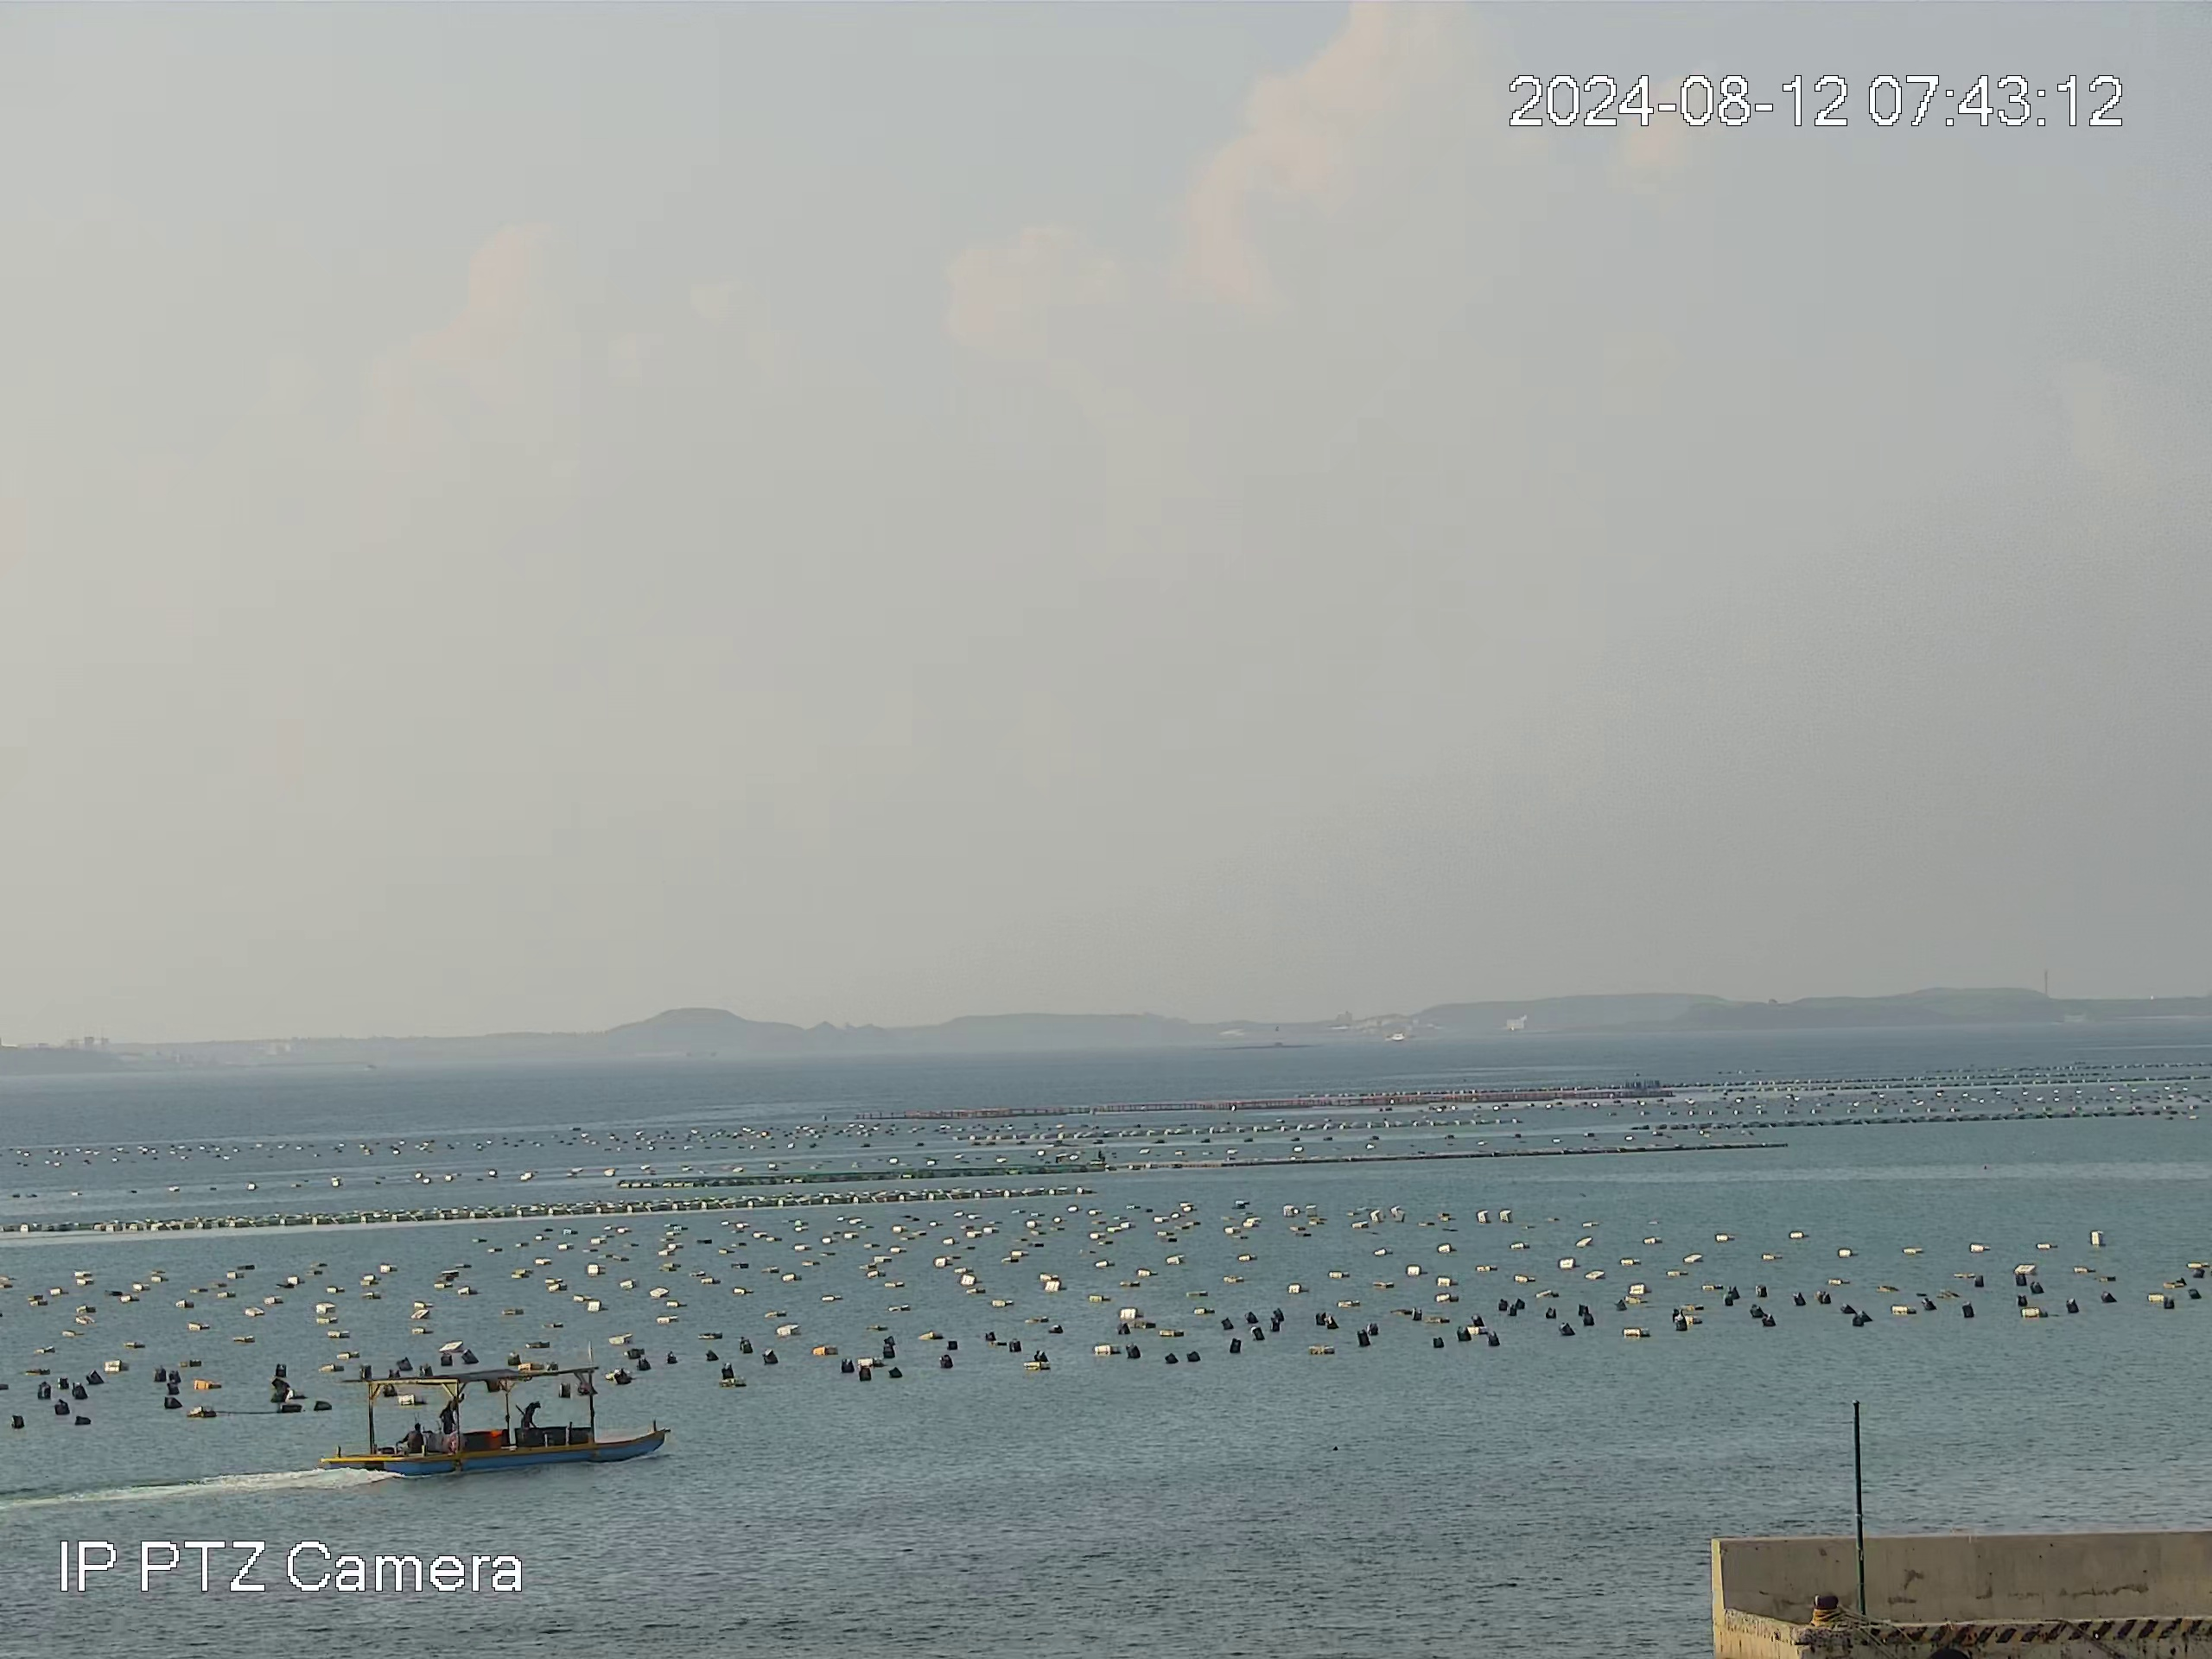boat: (312, 1366, 678, 1476)
